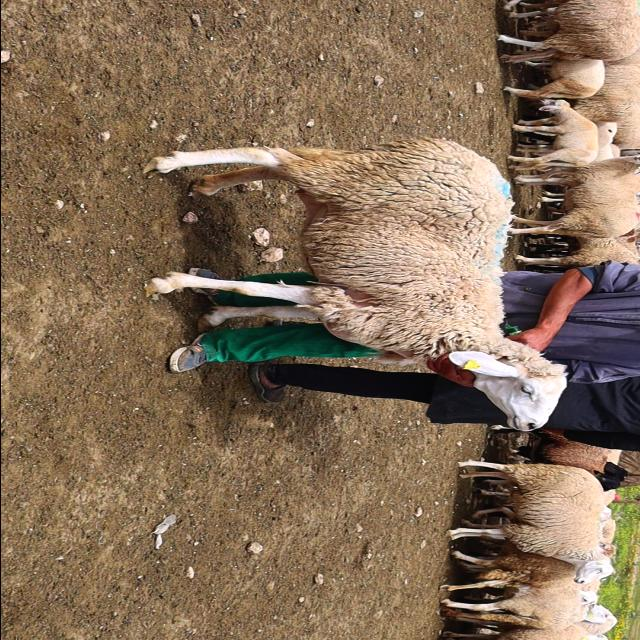Score_2: (144, 137, 566, 431)
